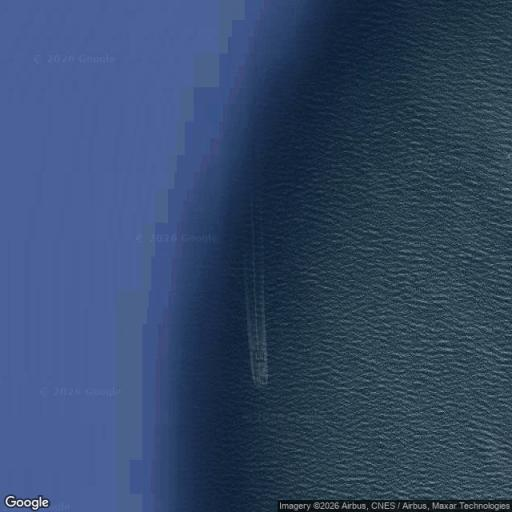ship: (236, 188, 277, 390)
